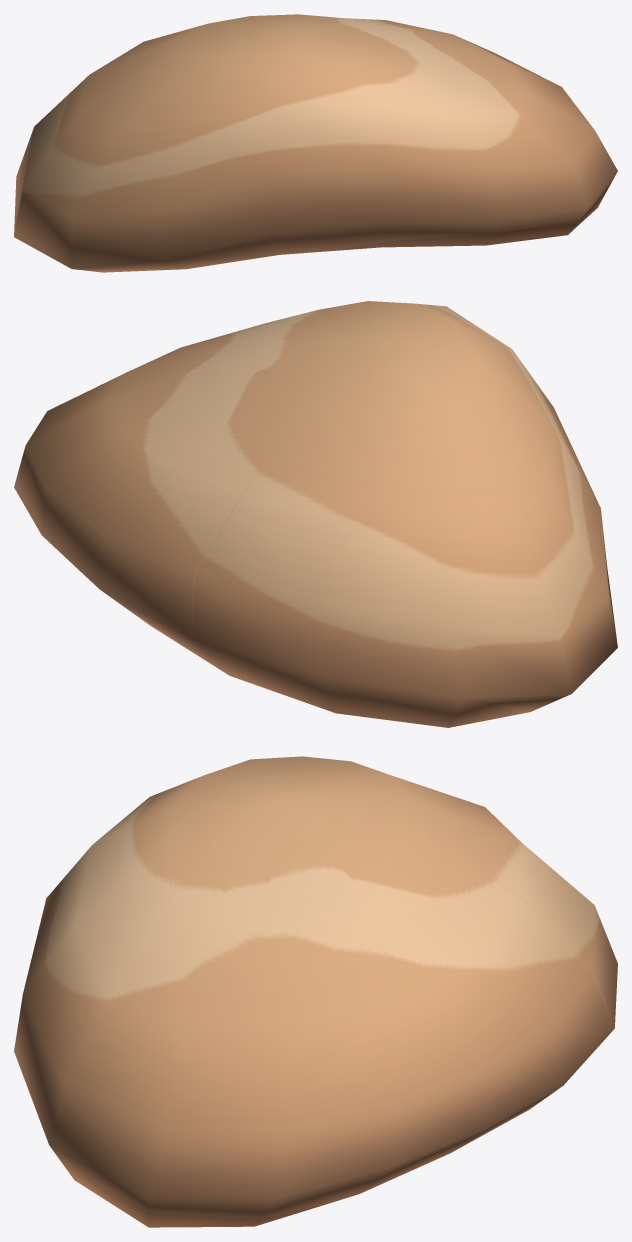
File: Stone_Small_01.FBX
3 renders of one model, top to bottom at view 1: azimuth 30°, elevation 25°; view 2: azimuth 150°, elevation 25°; view 3: azimuth 270°, elevation 25°, orthographic. The views are drawn at different scales.
Parts seen in each view (by area): view 1: Stone_Small_01; view 2: Stone_Small_01; view 3: Stone_Small_01.
Part boxes in pixels (x1,y1,x2,y2): Stone_Small_01: (14,14,617,272); Stone_Small_01: (14,301,617,727); Stone_Small_01: (14,756,617,1227).
Size of the model in its own units: 1.7 by 0.7128 by 1.33.
